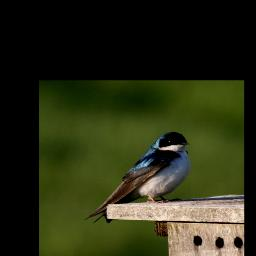Swallow: (84, 131, 193, 229)
